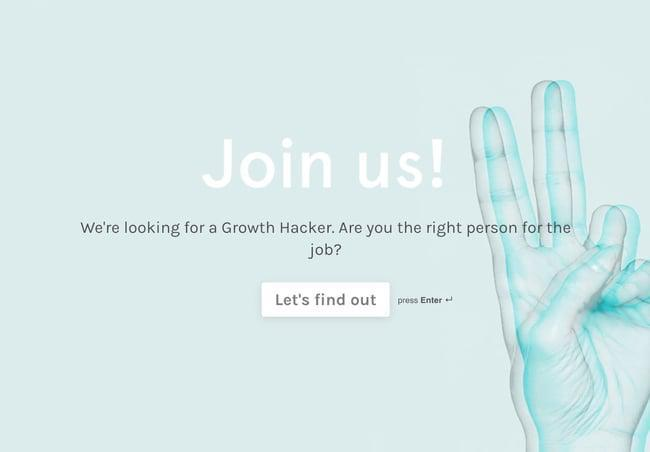button: (262, 282, 393, 318)
